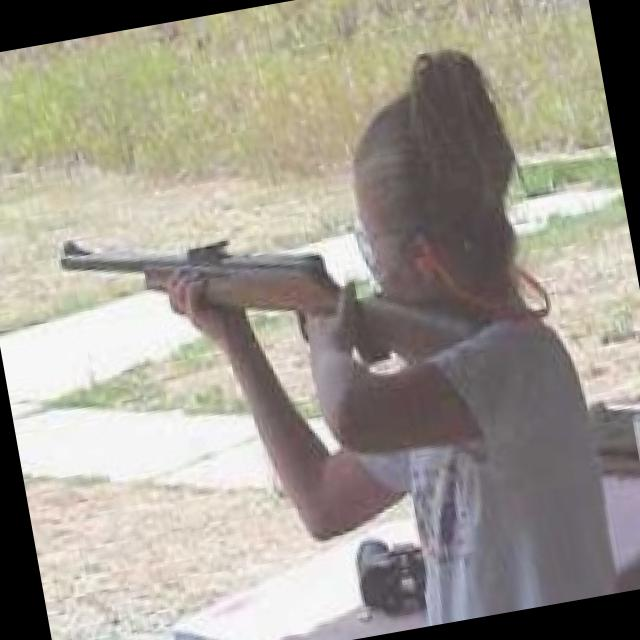long weapon: (37, 205, 503, 397)
